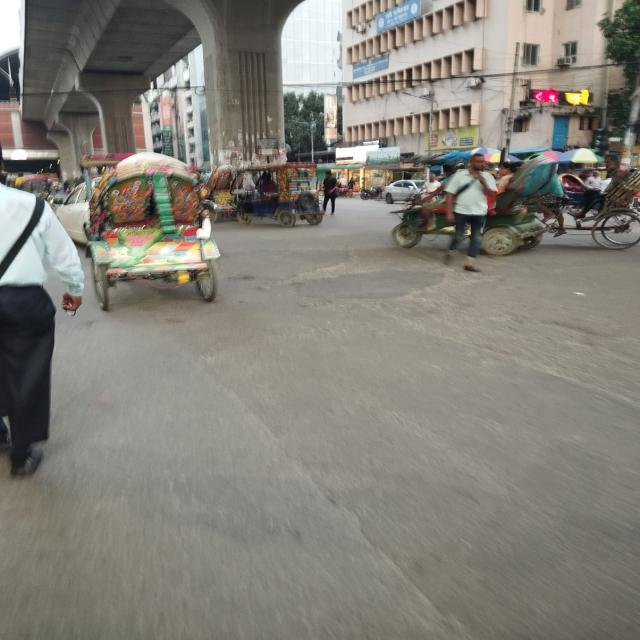person: (0, 151, 84, 477), (444, 153, 497, 272), (323, 171, 337, 215)
